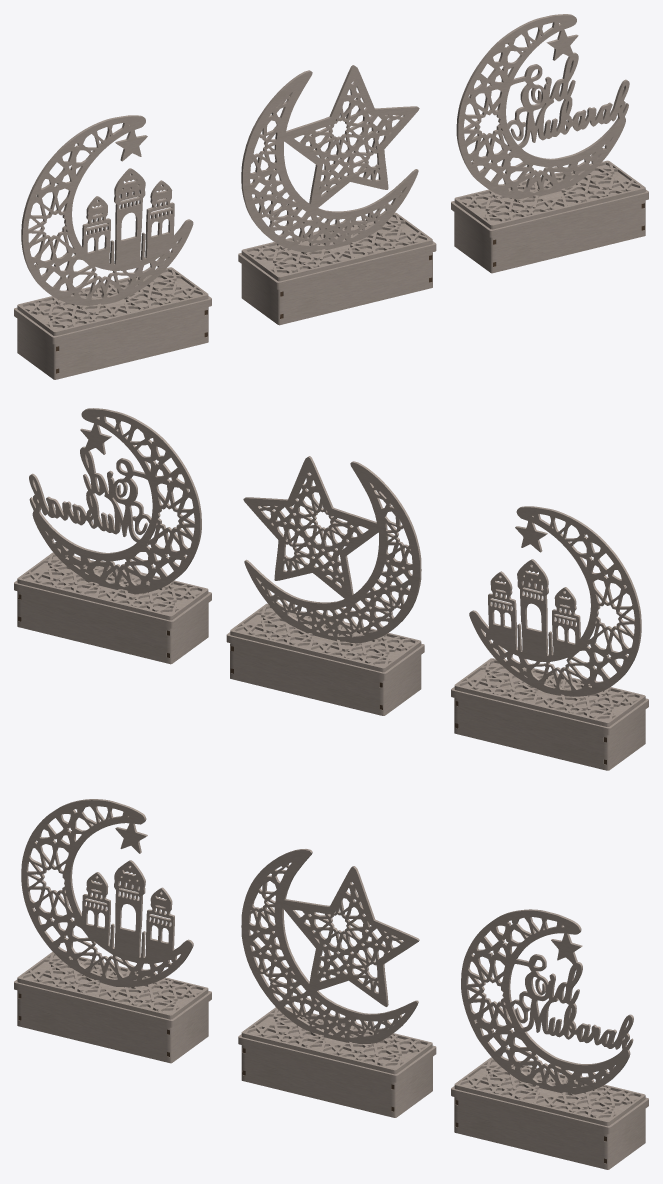
Rendered from hariraya_box_deco.gltf.
3 views of the same model, one above another, from view 1: azimuth 30°, elevation 25°; view 2: azimuth 150°, elevation 25°; view 3: azimuth 330°, elevation 25° (orthographic).
Parts seen in each view (by area): view 1: Cube; view 2: Cube; view 3: Cube.
Boxes of the visible parts, <box> form: Cube: <box>14,14,648,379</box>; Cube: <box>14,408,648,770</box>; Cube: <box>14,799,648,1169</box>.
Bounding box in the file's own units: 1.32 × 0.4729 × 0.1507.
Materials: 1 (1 with a texture image).
